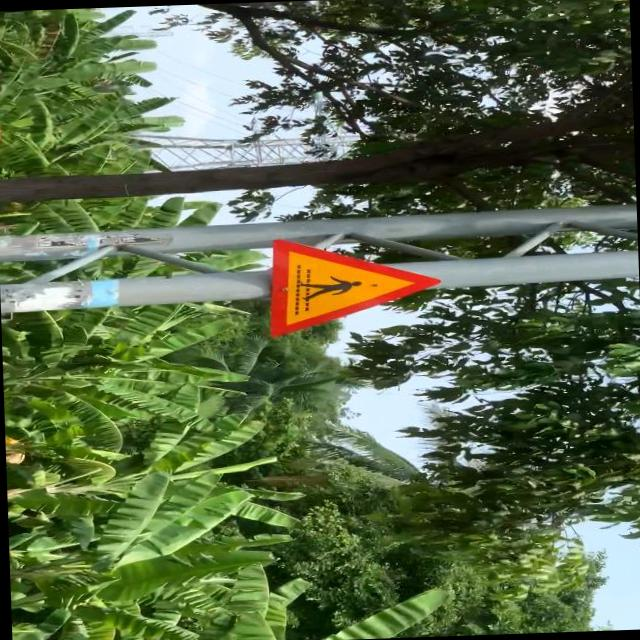W-224: (263, 234, 444, 340)
